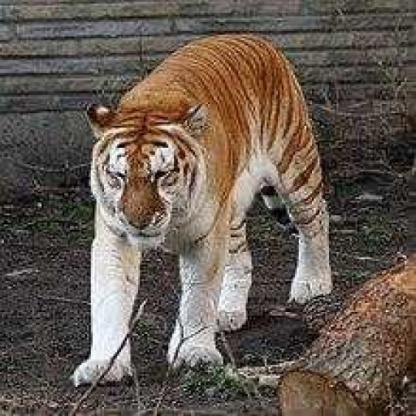Tiger: (69, 24, 333, 377)
